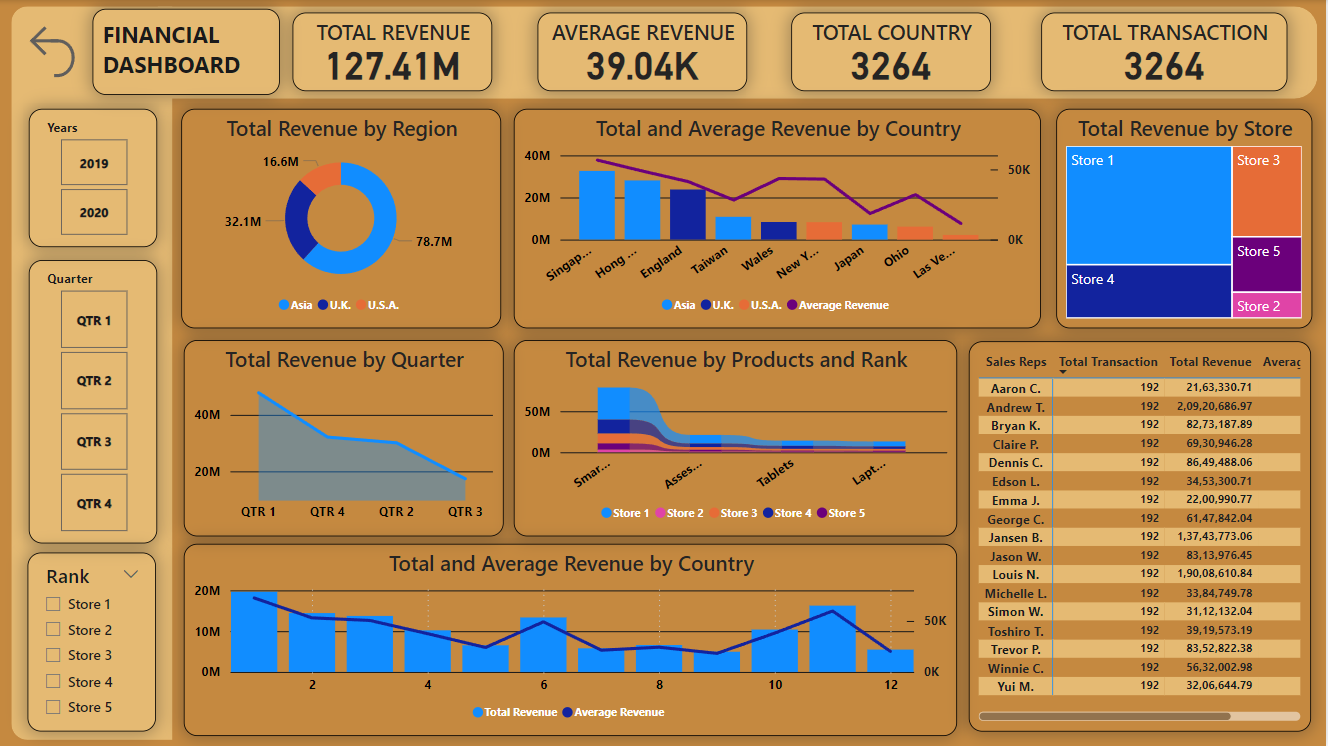

This screenshot's page, from the dashboard's own definition file:
{"tool":"powerbi","page":{"name":"Page 1","canvas":[1280,720],"ordinal":0},"visuals":[{"type":"shape","box":[10.9,6,155.6,708.2],"z":0},{"type":"shape","box":[152,6,1119.6,89.3],"z":1000},{"type":"card","title":"TOTAL REVENUE","fields":{"Values":["Measures (2).Total Revenue"]},"box":[282.3,11.9,193,76],"z":2000},{"type":"card","title":"AVERAGE REVENUE","fields":{"Values":["Measures (2).Average Revenue"]},"box":[518.8,12.1,202.7,76],"z":3000},{"type":"card","title":"TOTAL COUNTRY","fields":{"Values":["Measures (2).Total Country"]},"box":[764.1,11.9,193,76],"z":4000},{"type":"card","title":"TOTAL TRANSACTION","fields":{"Values":["Measures (2).Total Transaction"]},"box":[1005,11.9,237.7,76],"z":5000},{"type":"donutChart","fields":{"Y":["Measures (2).Total Revenue"],"Category":["Sheet1.Region"]},"box":[174.9,105,308.8,212.3],"z":6000},{"type":"lineStackedColumnComboChart","title":"Total and Average Revenue by Country","fields":{"Category":["Sheet1.Country"],"Y":["Measures (2).Total Revenue"],"Y2":["Measures (2).Average Revenue"],"Series":["Sheet1.Region"]},"box":[495.8,105,509.1,212.3],"z":7000},{"type":"treemap","title":"Total Revenue by Store","fields":{"Values":["Measures (2).Total Revenue"],"Group":["Sheet1.Rank"]},"box":[1019.4,105,247.3,212.3],"z":8000},{"type":"areaChart","fields":{"Y":["Measures (2).Total Revenue"],"Category":["Sheet1.Quarter"]},"box":[177.3,328.2,308.8,189.4],"z":9000},{"type":"ribbonChart","fields":{"Category":["Sheet1.Products"],"Y":["Measures (2).Total Revenue"],"Series":["Sheet1.Rank"]},"box":[495.8,328.2,428.3,189.4],"z":10000},{"type":"pivotTable","fields":{"Rows":["Sheet1.Sales Reps"],"Values":["Measures (2).Total Transaction","Measures (2).Total Revenue","Measures (2).Average Revenue"]},"box":[935,329.4,330.6,376.4],"z":11000},{"type":"lineStackedColumnComboChart","title":"Total and Average Revenue by Country","fields":{"Category":["Sheet1.Month"],"Y":["Measures (2).Total Revenue"],"Y2":["Measures (2).Average Revenue"]},"box":[177.3,524.8,746.8,185.8],"z":12000},{"type":"textbox","box":[89.3,8.4,181,83.2],"z":13000},{"type":"slicer","fields":{"Values":["Sheet1.Years"]},"box":[27.7,105,124.3,133.9],"z":14000},{"type":"slicer","fields":{"Values":["Sheet1.Quarter"]},"box":[27.7,250.9,124.3,273.9],"z":15000},{"type":"slicer","fields":{"Values":["Sheet1.Rank"]},"box":[26.5,533.2,124.3,172.5],"z":16000},{"type":"actionButton","box":[19.3,12.1,62.7,76],"z":17000}]}

Visuals, with their boxes in screenshot pixels (x1, y1, x2, y2), scaled from the page's 1280x720 canvas onto the 1328x746 screenshot:
shape: <region>11, 6, 173, 740</region>
shape: <region>158, 6, 1319, 99</region>
"TOTAL REVENUE" card: <region>293, 12, 493, 91</region>
"AVERAGE REVENUE" card: <region>538, 13, 749, 91</region>
"TOTAL COUNTRY" card: <region>793, 12, 993, 91</region>
"TOTAL TRANSACTION" card: <region>1043, 12, 1289, 91</region>
donutChart - Measures (2).Total Revenue x Sheet1.Region: <region>181, 109, 502, 329</region>
"Total and Average Revenue by Country" lineStackedColumnComboChart: <region>514, 109, 1043, 329</region>
"Total Revenue by Store" treemap: <region>1058, 109, 1314, 329</region>
areaChart - Measures (2).Total Revenue x Sheet1.Quarter: <region>184, 340, 504, 536</region>
ribbonChart - Sheet1.Products x Measures (2).Total Revenue: <region>514, 340, 959, 536</region>
pivotTable - Sheet1.Sales Reps x Measures (2).Total Transaction: <region>970, 341, 1313, 731</region>
"Total and Average Revenue by Country" lineStackedColumnComboChart: <region>184, 544, 959, 736</region>
textbox: <region>93, 9, 280, 95</region>
slicer - Sheet1.Years: <region>29, 109, 158, 248</region>
slicer - Sheet1.Quarter: <region>29, 260, 158, 544</region>
slicer - Sheet1.Rank: <region>27, 552, 156, 731</region>
actionButton: <region>20, 13, 85, 91</region>
